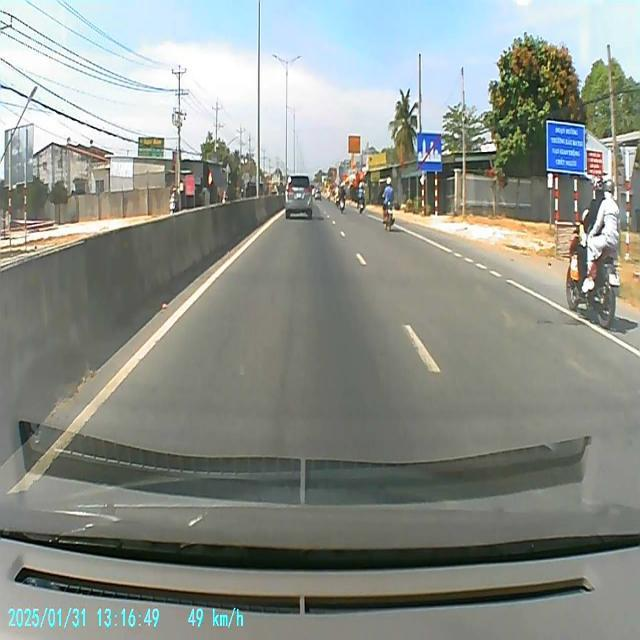421-ket-thuc-khu-dong-dan-cu: (417, 132, 443, 172)
